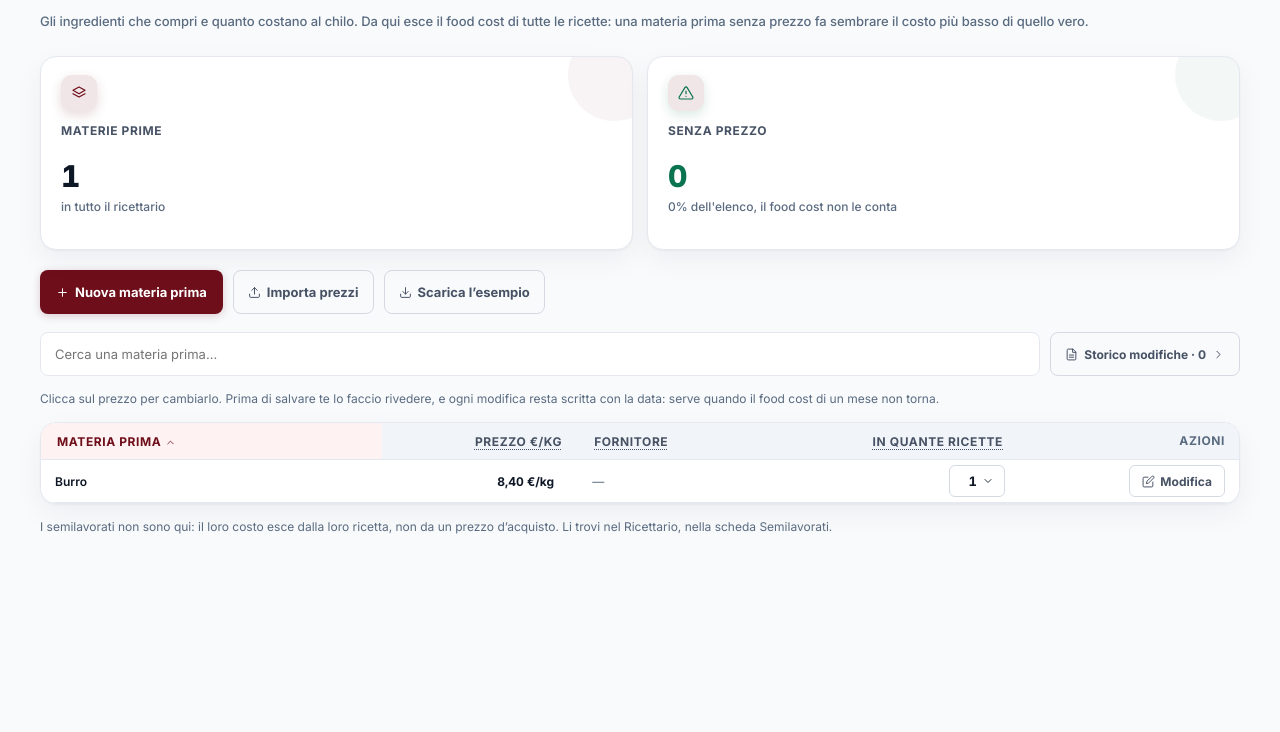
it: materie prime — due Invio non fanno due scritture › creare una materia prima: due Invio, un salvataggio solo
Click the button "Nuova materia prima".
click(131, 292)  # box [40, 270, 223, 314]
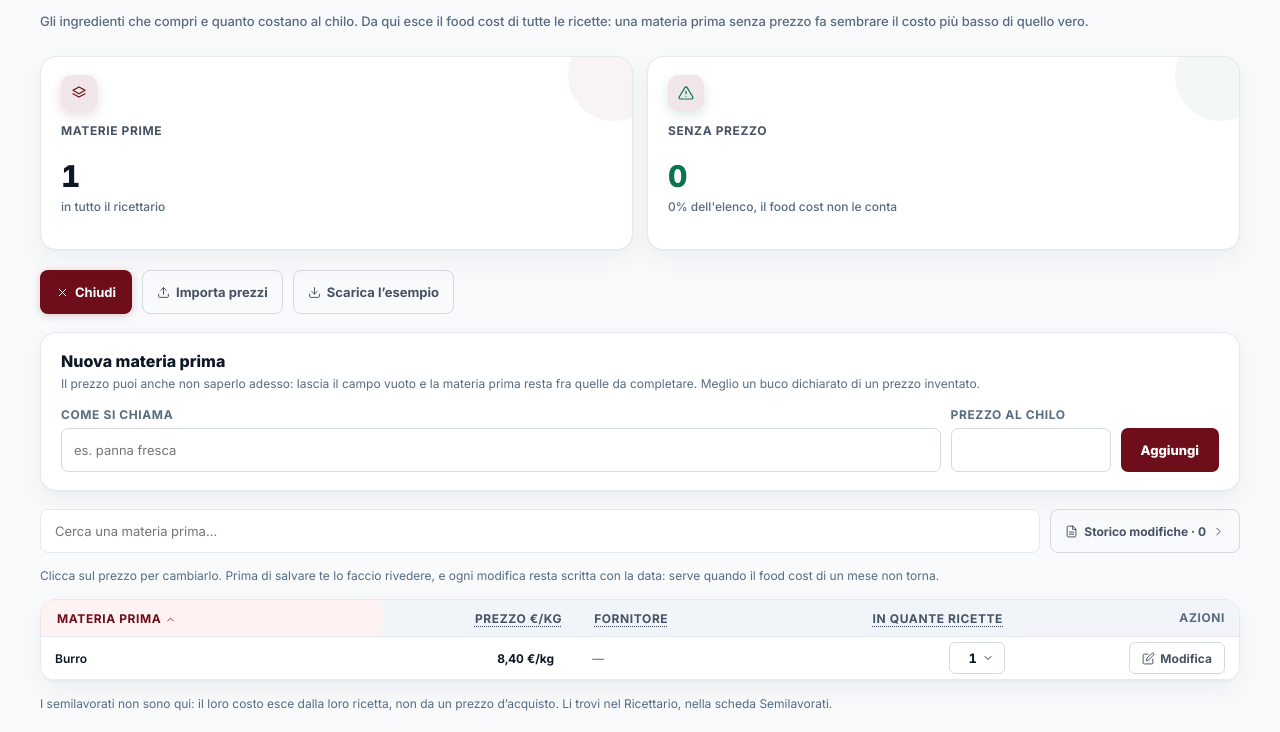
Type "panna fresca" into the field labelled "Come si chiama".
click(501, 450); type("panna fresca")  # box [61, 428, 941, 472]
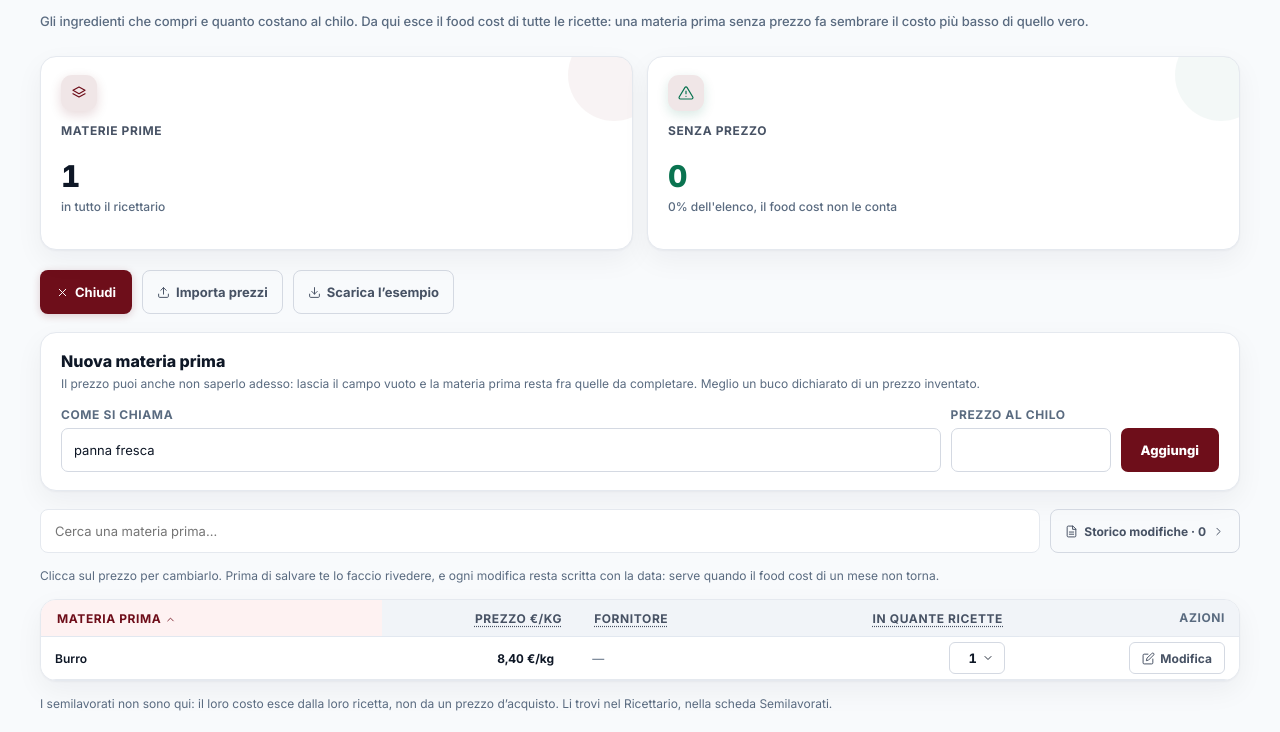
Type "4,20" into the field labelled "Prezzo al chilo".
click(1031, 450); type("4,20")  # box [951, 428, 1111, 472]
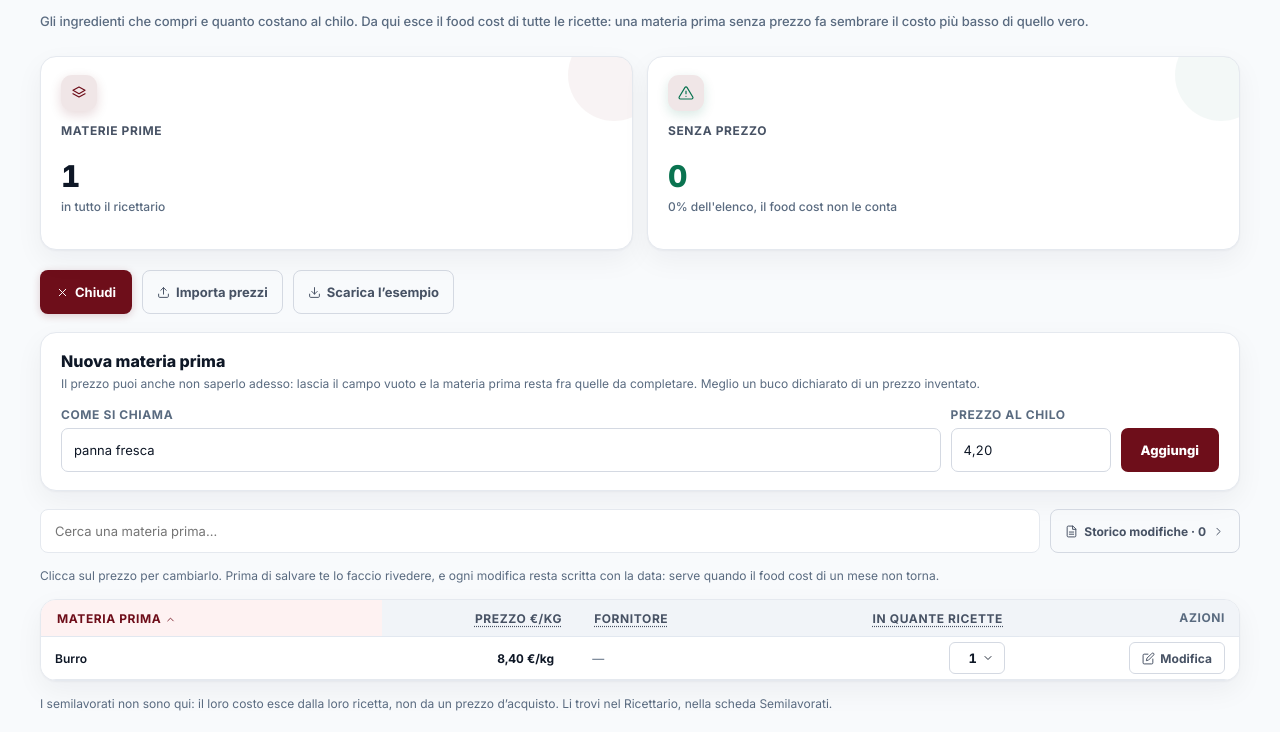
Press Enter in the field labelled "Prezzo al chilo", box [951, 428, 1111, 472]
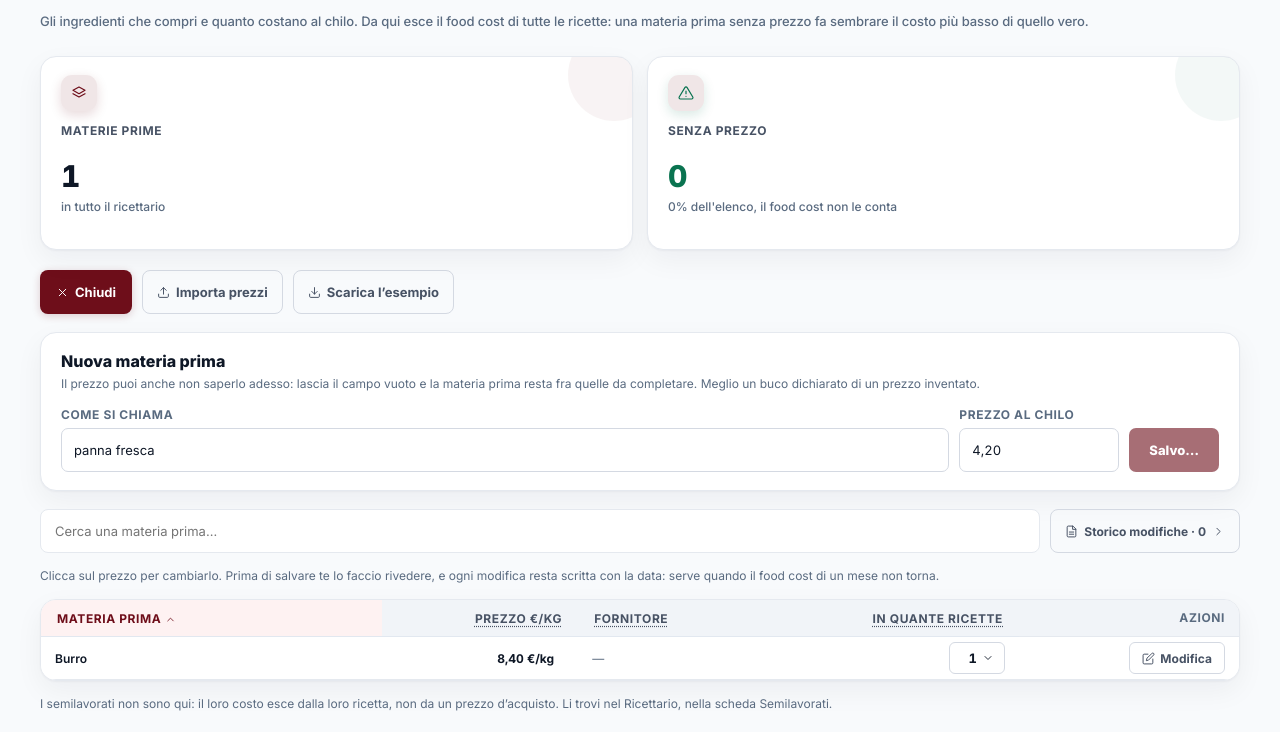
Press Enter in the field labelled "Prezzo al chilo", box [959, 428, 1119, 472]
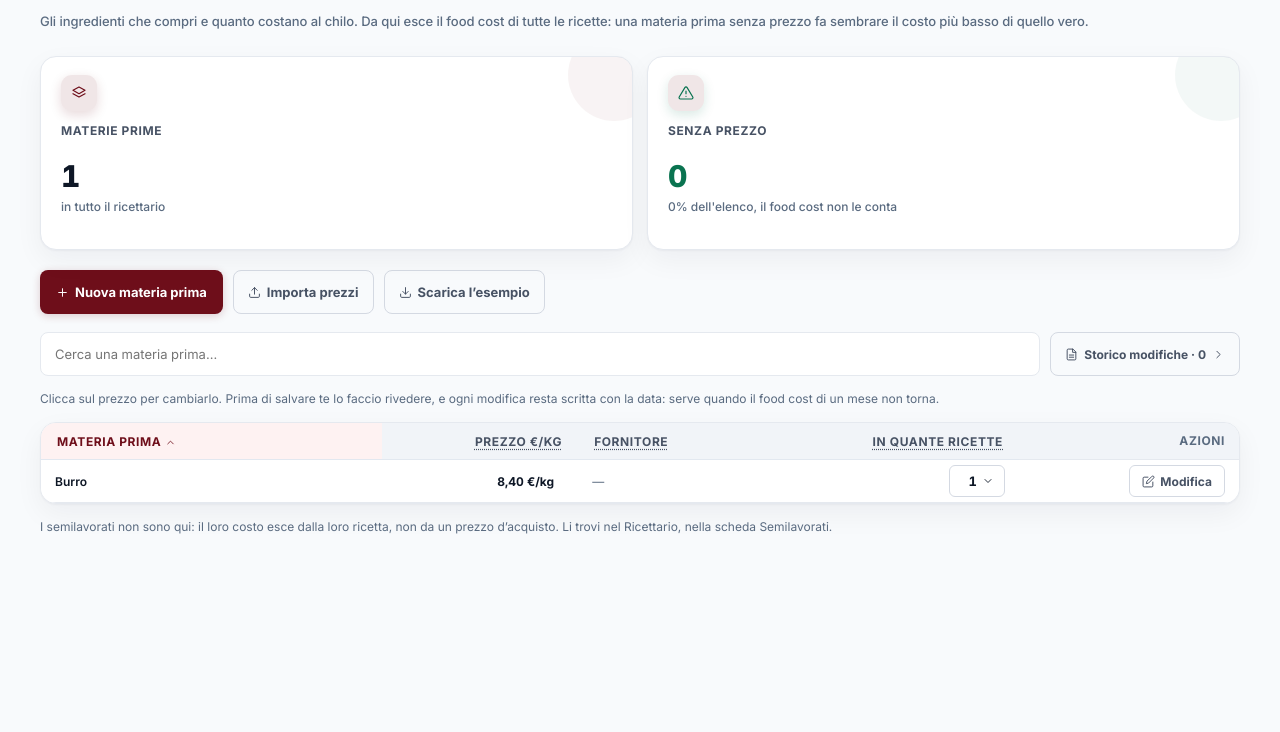
Check: the label labelled "Come si chiama" is gone
